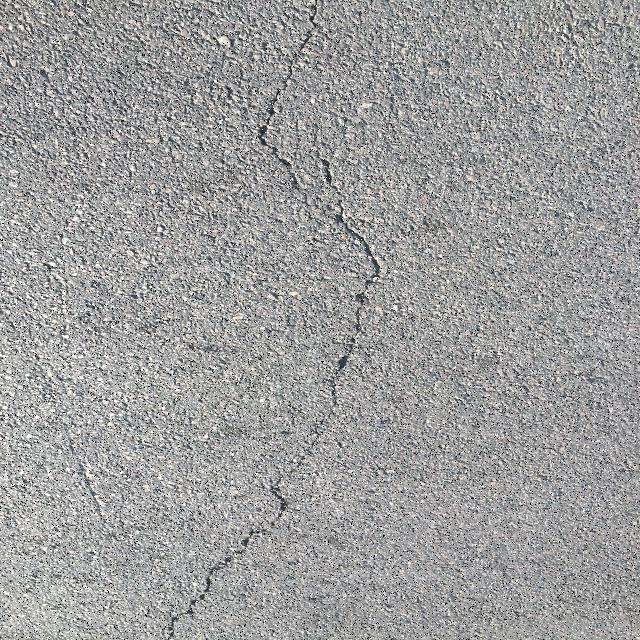moderate crack: (116, 308, 188, 346), (76, 460, 100, 497), (40, 258, 64, 295), (266, 480, 286, 520)
severe crack: (141, 17, 385, 632), (392, 264, 640, 639), (424, 6, 640, 267), (0, 1, 149, 171), (170, 501, 278, 634), (297, 146, 380, 294), (50, 385, 118, 517), (259, 8, 324, 136), (279, 392, 350, 496), (334, 301, 370, 380), (166, 589, 202, 629), (324, 368, 341, 415), (362, 247, 382, 286), (303, 4, 322, 40), (284, 168, 308, 196), (195, 570, 214, 598), (261, 103, 276, 128), (354, 289, 366, 304)
